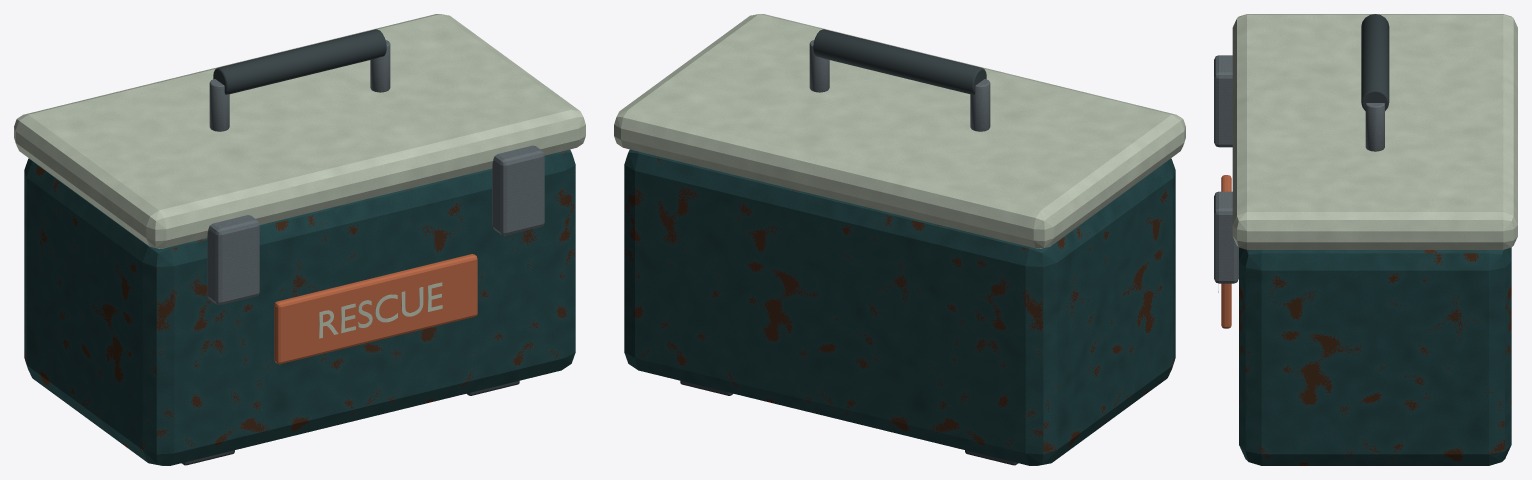
File: IslandFlareCache.fbx
The picture shows the model from 3 angles, left to right: view 1: azimuth 30°, elevation 25°; view 2: azimuth 150°, elevation 25°; view 3: azimuth 270°, elevation 25°; orthographic projection.
Parts seen in each view (by area): view 1: IslandOxide_Surface.005__UnityExport, IslandClinic_Surface.002__UnityExport, IslandSignal_Surface.001__UnityExport, IslandMetal_Surface.005__UnityExport, IslandDark_Surface__UnityExport; view 2: IslandOxide_Surface.005__UnityExport, IslandClinic_Surface.002__UnityExport, IslandDark_Surface__UnityExport, IslandMetal_Surface.005__UnityExport; view 3: IslandClinic_Surface.002__UnityExport, IslandOxide_Surface.005__UnityExport, IslandMetal_Surface.005__UnityExport, IslandDark_Surface__UnityExport, IslandSignal_Surface.001__UnityExport.
Part boxes in pixels (x1=…): IslandOxide_Surface.005__UnityExport: x1=24, y1=149, x2=575, y2=465; IslandClinic_Surface.002__UnityExport: x1=14, y1=14, x2=585, y2=338; IslandSignal_Surface.001__UnityExport: x1=274, y1=254, x2=477, y2=364; IslandMetal_Surface.005__UnityExport: x1=207, y1=40, x2=544, y2=304; IslandDark_Surface__UnityExport: x1=181, y1=29, x2=519, y2=465; IslandOxide_Surface.005__UnityExport: x1=624, y1=149, x2=1175, y2=465; IslandClinic_Surface.002__UnityExport: x1=614, y1=14, x2=1185, y2=248; IslandDark_Surface__UnityExport: x1=680, y1=29, x2=1018, y2=465; IslandMetal_Surface.005__UnityExport: x1=809, y1=40, x2=990, y2=131; IslandClinic_Surface.002__UnityExport: x1=1218, y1=14, x2=1517, y2=292; IslandOxide_Surface.005__UnityExport: x1=1239, y1=247, x2=1511, y2=465; IslandMetal_Surface.005__UnityExport: x1=1214, y1=55, x2=1384, y2=283; IslandDark_Surface__UnityExport: x1=1361, y1=14, x2=1389, y2=110; IslandSignal_Surface.001__UnityExport: x1=1221, y1=175, x2=1231, y2=328.
Bounding box in the file's own units: 1.2 × 0.884 × 0.735.
